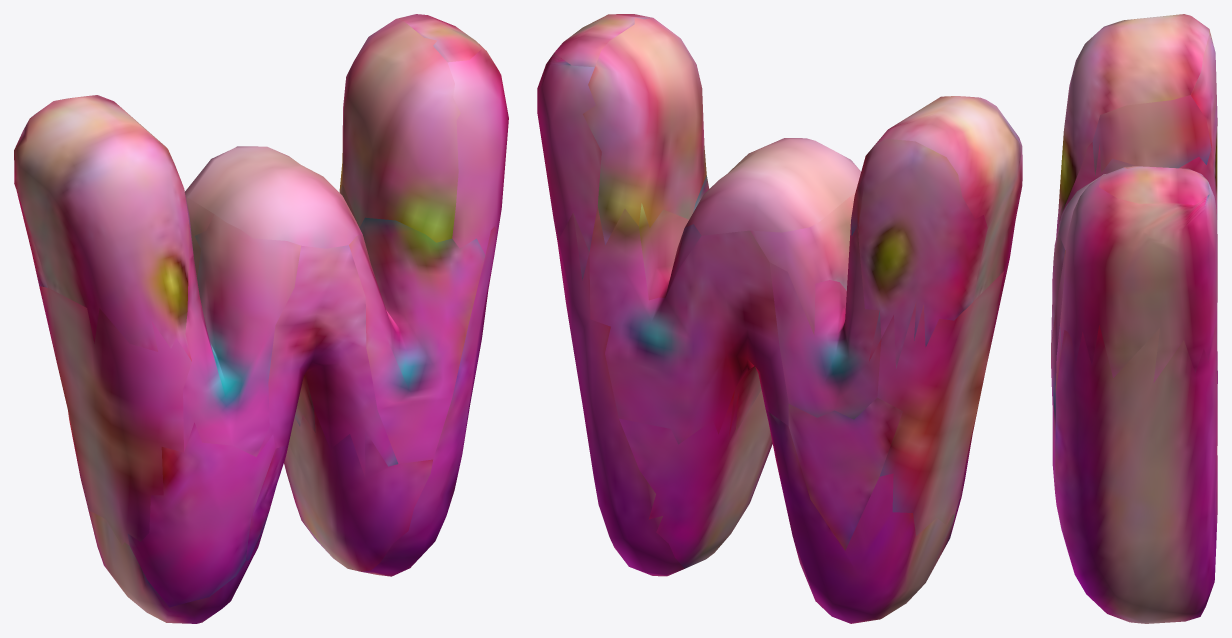
The picture shows the model from 3 angles, left to right: view 1: azimuth 30°, elevation 25°; view 2: azimuth 150°, elevation 25°; view 3: azimuth 270°, elevation 25°; orthographic projection. The views are drawn at different scales.
Parts seen in each view (by area): view 1: Candy-Letter-W; view 2: Candy-Letter-W; view 3: Candy-Letter-W.
Part boxes in pixels (box(x1,y1,x2,y2)): Candy-Letter-W: box(14, 14, 508, 623); Candy-Letter-W: box(537, 14, 1022, 623); Candy-Letter-W: box(1051, 14, 1217, 623).
Bounding box in the file's own units: 0.3046 × 0.3387 × 0.1075.
1 material, 1 textured.
